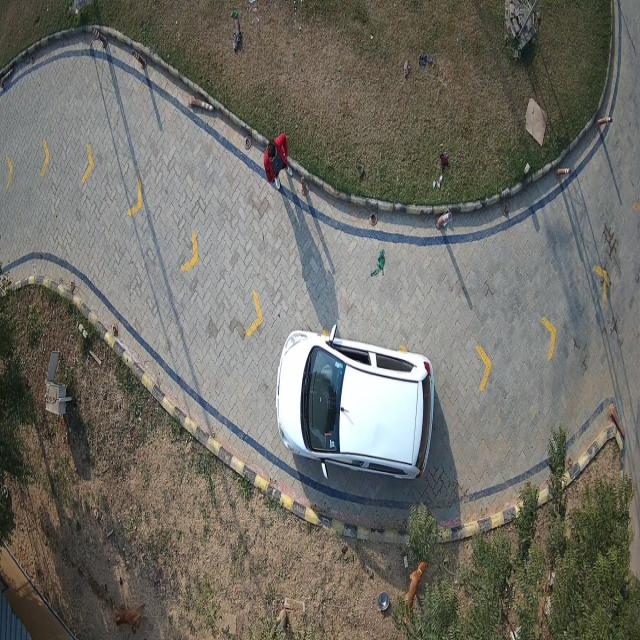car: (276, 327, 435, 479)
